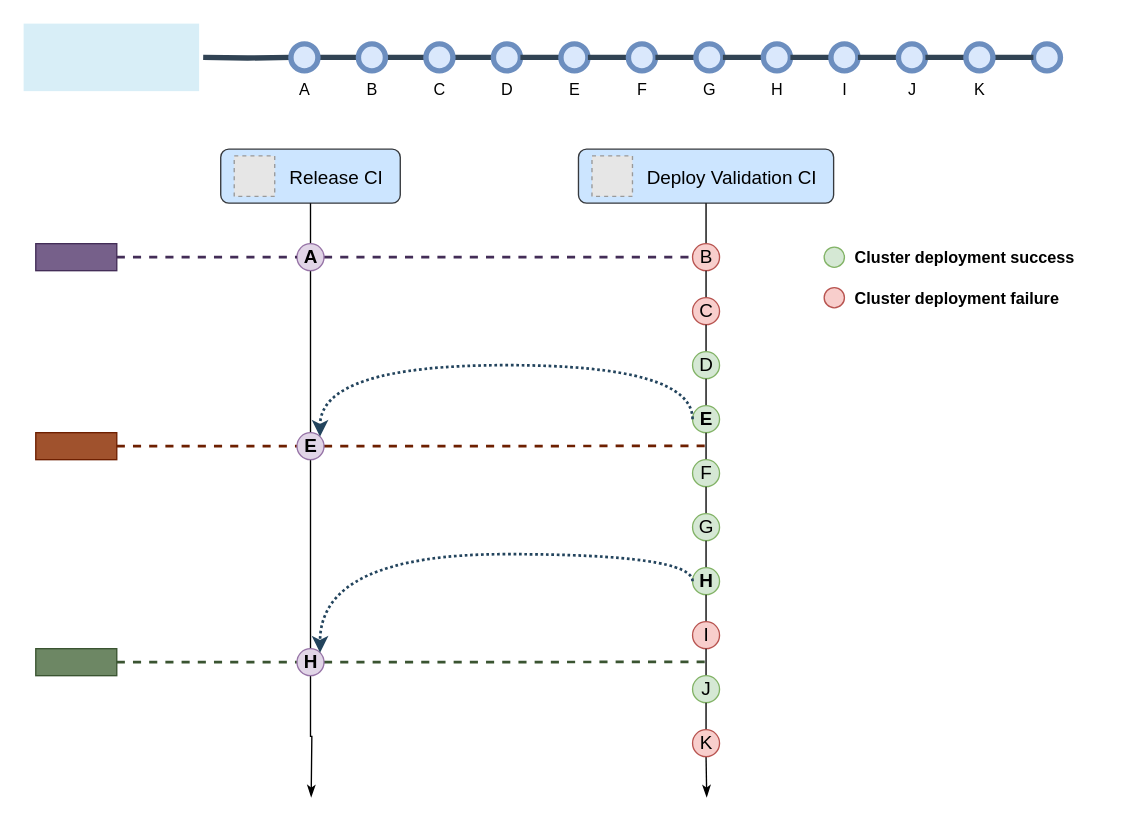
Image size: 1131x832. Some labels were removed from this diagram. Grey dashed boxes stand in for pictures. Here are the shapes that lost their labels. From the top down, the centre of each, then its label:
At point (110, 56): "kubespray master branch".
At point (75, 256): "Jan".
At point (75, 445): "Feb".
At point (75, 661): "Mar".
